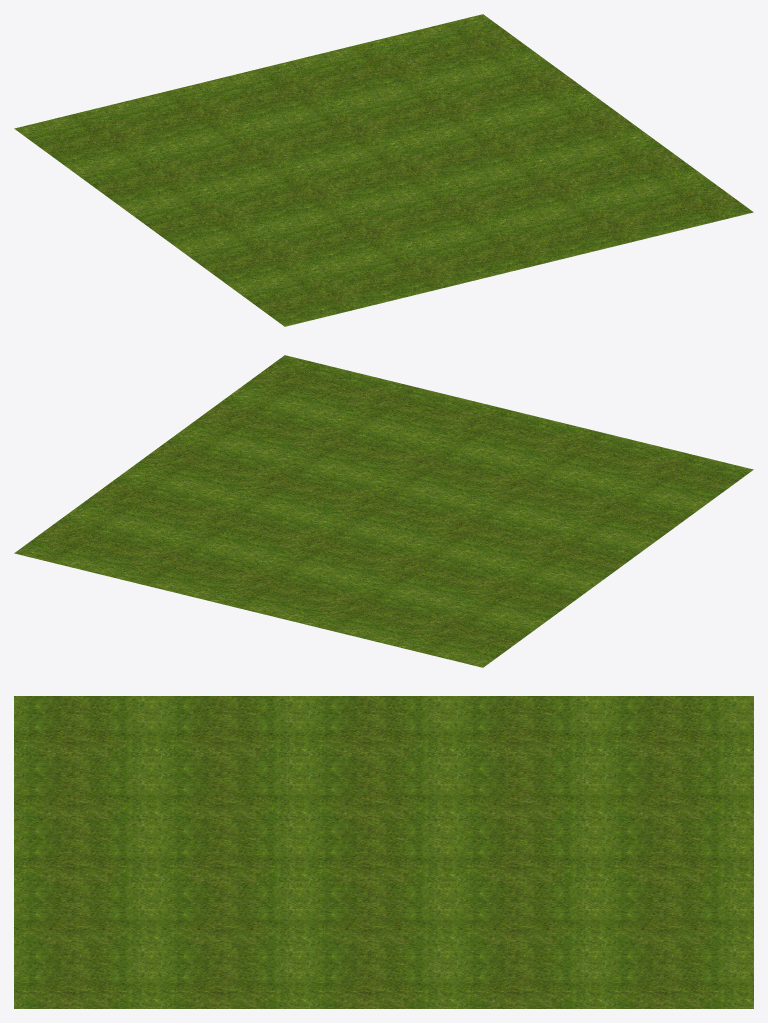
The model's file is grass.fbx.
3 views of the same model, one above another, from view 1: azimuth 30°, elevation 25°; view 2: azimuth 150°, elevation 25°; view 3: azimuth 270°, elevation 25° (orthographic). The views are drawn at different scales.
Visible parts, largest first — view 1: pPlane1; view 2: pPlane1; view 3: pPlane1.
Boxes of the visible parts, <box> form: pPlane1: <box>14,14,753,326</box>; pPlane1: <box>14,355,753,667</box>; pPlane1: <box>14,696,753,1008</box>.
Bounding box in the file's own units: 95.3 × 2.12e-14 × 95.3.
Materials: 1 (1 with a texture image).
